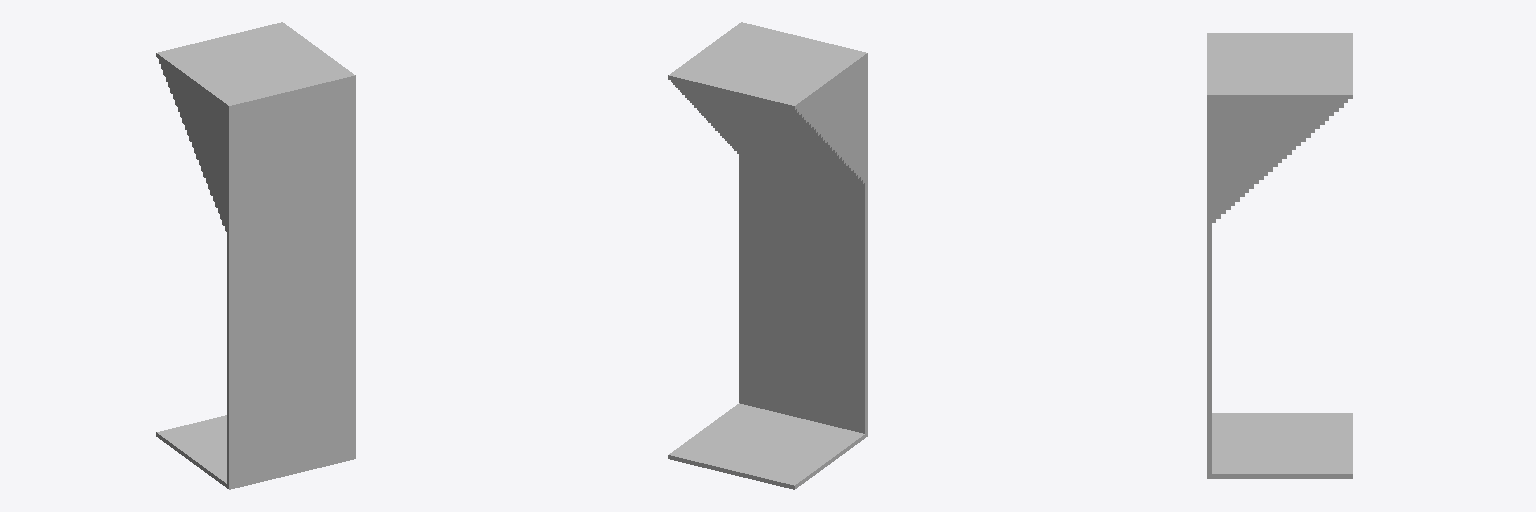
Rendered from WallUp.obj.
3 renders of one model, left to right at view 1: azimuth 30°, elevation 25°; view 2: azimuth 150°, elevation 25°; view 3: azimuth 270°, elevation 25°, orthographic.
Visible parts, largest first — view 1: object 1; view 2: object 1; view 3: object 1.
Part boxes in pixels (x1,y1,x2,y2): object 1: (156,22,355,489); object 1: (668,22,867,489); object 1: (1207,33,1352,478).
Size of the model in its own units: 3.1 by 9 by 3.1.